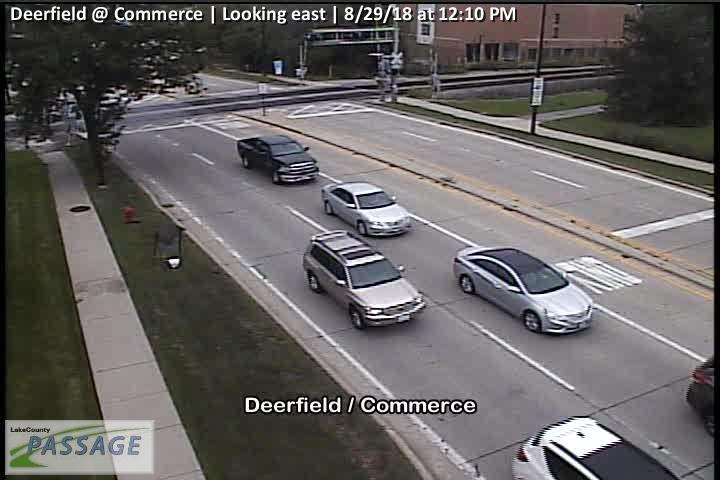SUV: (301, 230, 426, 326), (508, 415, 684, 480)
Sedan: (452, 243, 594, 334), (321, 182, 412, 237)
Truck: (238, 134, 320, 184)
